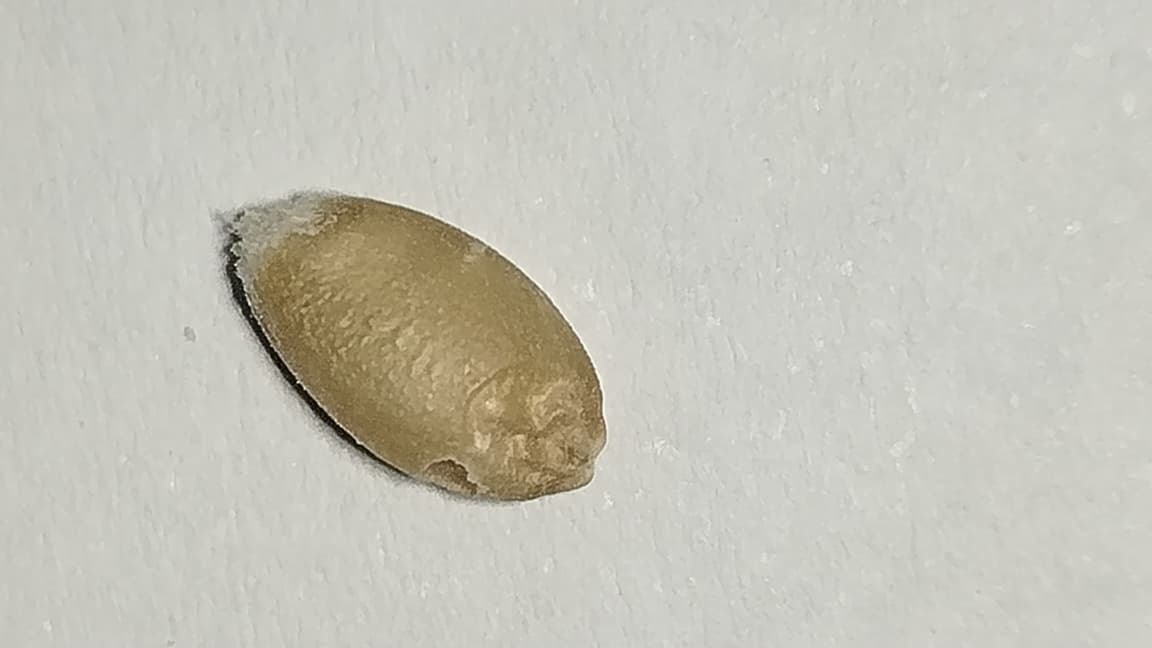damage: (217, 189, 604, 498)
insectdamage: (398, 422, 506, 503)
